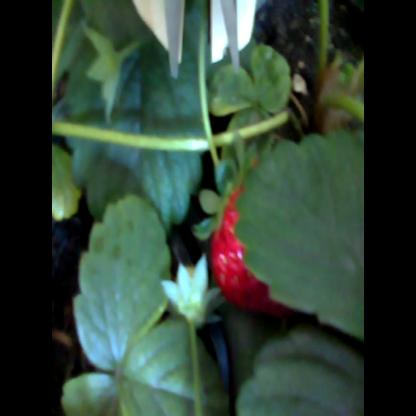ripe: (204, 169, 291, 317)
